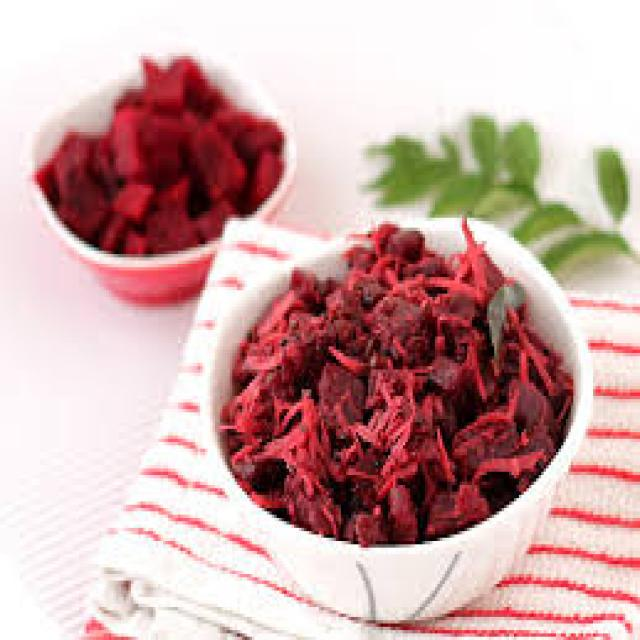beetroot poriyal: (225, 215, 574, 537), (35, 56, 282, 251)
